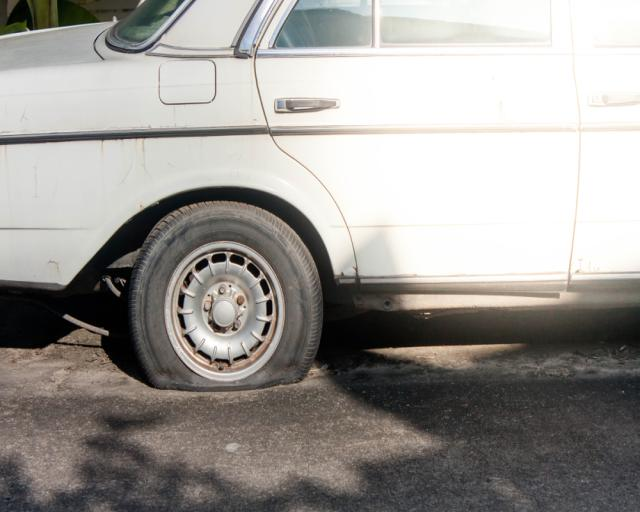tire flat: (129, 197, 327, 392)
